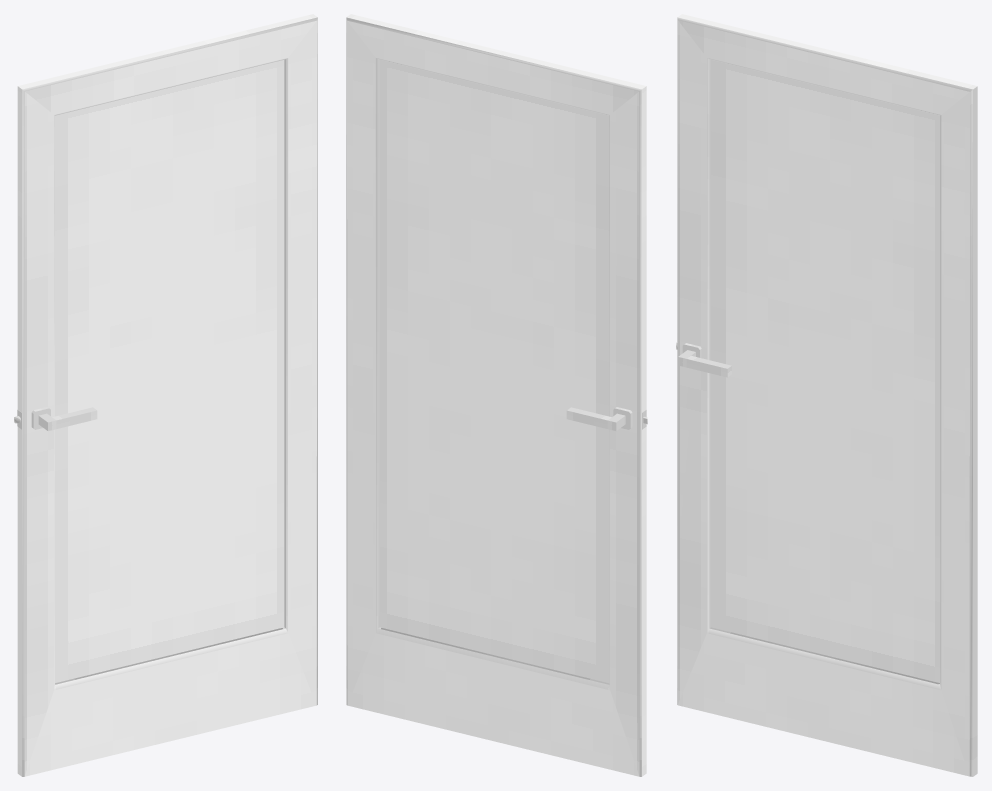
Rendered from DoorOnePanel.glb.
3 renders of one model, left to right at view 1: azimuth 30°, elevation 25°; view 2: azimuth 150°, elevation 25°; view 3: azimuth 330°, elevation 25°, orthographic.
Parts seen in each view (by area): view 1: DoorOnePanel; view 2: DoorOnePanel; view 3: DoorOnePanel.
Part boxes in pixels (box(x1,y1,x2,y2)): DoorOnePanel: box(14, 14, 317, 776); DoorOnePanel: box(346, 14, 647, 776); DoorOnePanel: box(676, 14, 977, 776).
Bounding box in the file's own units: 0.9286 × 2.03 × 0.1589.
1 material, 1 textured.
